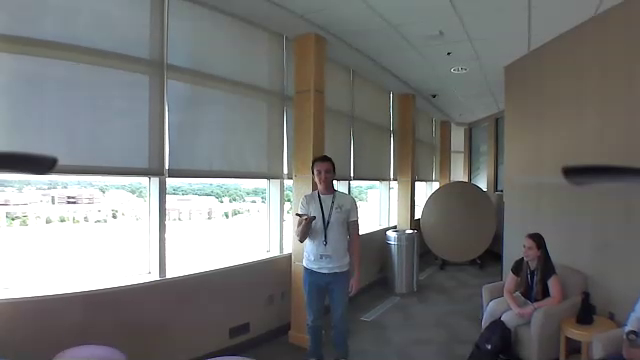land: (290, 207, 319, 230)
